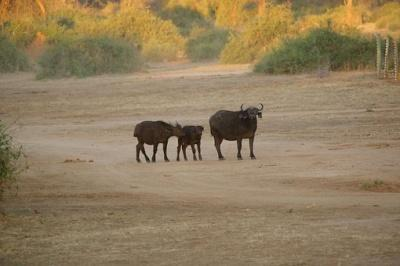buffalo: (209, 104, 262, 159), (133, 121, 203, 161)
